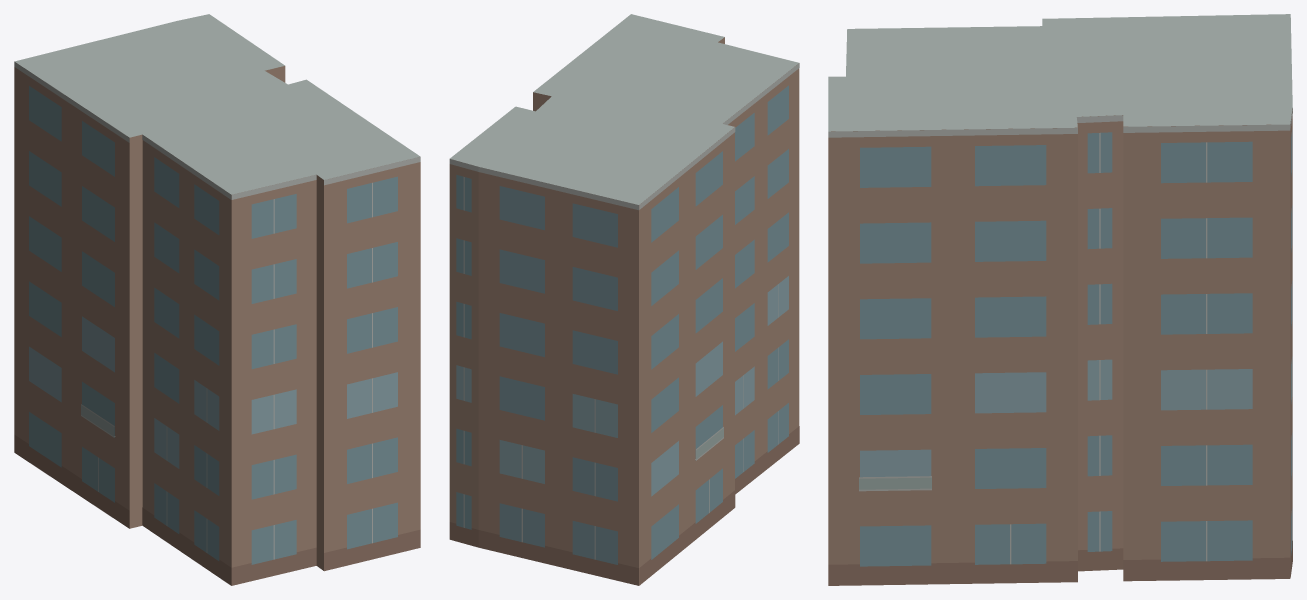
File: survey-upis-32880650.glb
3 views of the same model, side by side, from view 1: azimuth 30°, elevation 25°; view 2: azimuth 150°, elevation 25°; view 3: azimuth 270°, elevation 25° (orthographic). The views are drawn at different scales.
Visible parts, largest first — view 1: survey-upis-32880650.tmp; view 2: survey-upis-32880650.tmp; view 3: survey-upis-32880650.tmp.
Part boxes in pixels (x1=…): survey-upis-32880650.tmp: x1=14, y1=14, x2=420, y2=585; survey-upis-32880650.tmp: x1=449, y1=14, x2=799, y2=585; survey-upis-32880650.tmp: x1=828, y1=14, x2=1292, y2=585.
Size of the model in its own units: 9.94 by 17.9 by 16.6.
